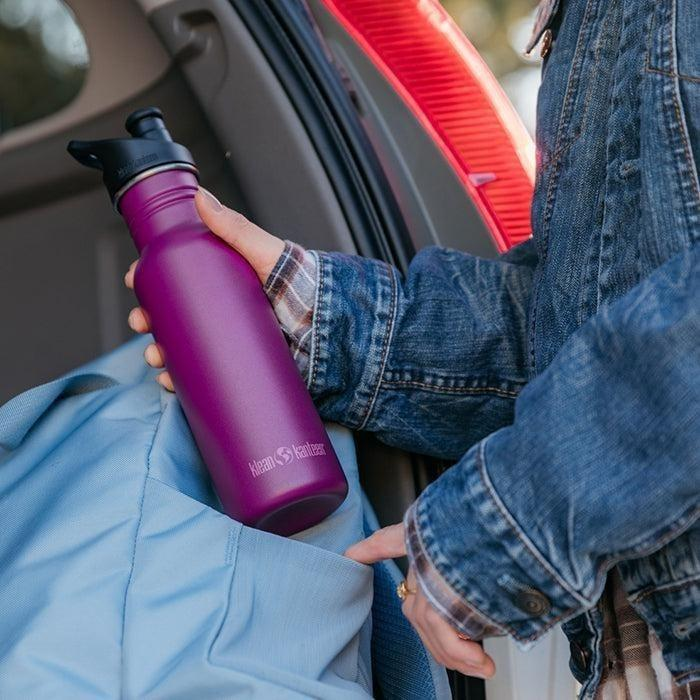gym bottle: (84, 113, 349, 537)
